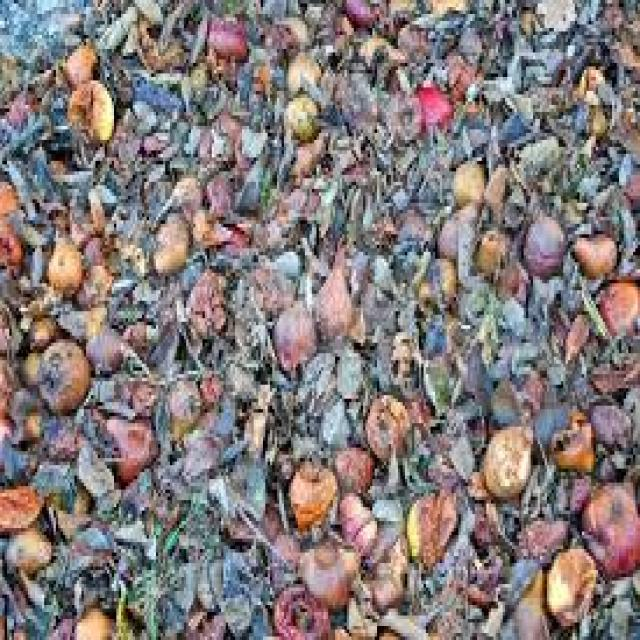organic waste: (0, 0, 638, 637), (580, 479, 638, 577), (98, 402, 160, 483), (293, 532, 354, 605), (545, 542, 598, 623), (32, 336, 88, 412), (403, 483, 456, 563), (286, 451, 338, 532), (312, 238, 351, 343), (498, 566, 556, 636), (480, 420, 530, 500), (272, 577, 335, 637), (270, 280, 312, 367), (2, 504, 54, 574), (44, 462, 93, 535), (356, 532, 403, 602), (221, 482, 277, 538), (575, 52, 610, 136), (519, 210, 563, 276), (444, 45, 482, 119), (552, 409, 596, 472), (66, 77, 110, 140), (365, 388, 405, 455), (161, 374, 200, 441), (84, 318, 130, 374), (393, 10, 440, 63), (42, 235, 81, 298), (596, 276, 638, 332), (412, 77, 454, 133), (0, 479, 44, 532), (436, 196, 480, 248), (204, 10, 247, 63), (186, 200, 233, 248), (384, 70, 419, 133), (177, 598, 233, 637), (154, 206, 186, 273), (340, 490, 374, 552), (65, 598, 119, 637), (280, 88, 316, 144), (566, 228, 612, 270), (419, 259, 456, 311), (249, 256, 289, 304), (330, 441, 372, 486), (16, 273, 61, 315), (270, 7, 312, 52), (200, 161, 238, 210), (447, 154, 484, 203), (60, 38, 96, 88), (516, 518, 566, 552), (5, 80, 37, 133), (165, 168, 202, 210), (75, 262, 114, 301), (284, 46, 319, 88), (472, 220, 503, 266), (382, 0, 414, 42), (482, 161, 507, 210), (121, 311, 158, 343), (342, 594, 370, 636), (263, 525, 293, 563), (342, 0, 382, 28), (26, 308, 54, 346), (0, 356, 16, 419), (0, 300, 16, 356), (14, 409, 42, 441), (0, 217, 21, 259), (425, 0, 465, 17), (0, 171, 16, 213), (370, 622, 403, 636), (333, 616, 354, 636), (44, 154, 65, 168)
